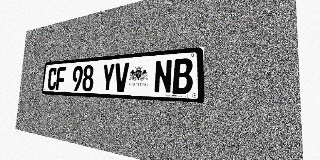8: (82, 65, 94, 91)
9: (71, 65, 83, 91)
B: (172, 58, 193, 94)
C: (47, 67, 57, 90)
F: (55, 67, 66, 90)
N: (154, 59, 172, 94)
V: (114, 62, 129, 92)
Y: (101, 63, 115, 92)
